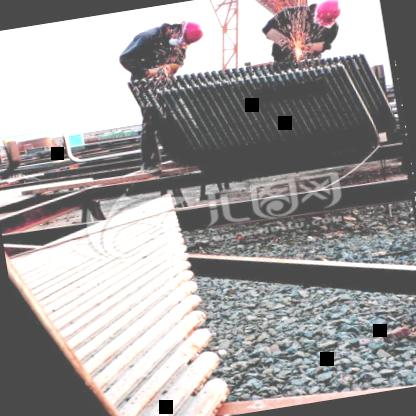helmet: (158, 16, 206, 52), (309, 0, 345, 35)
